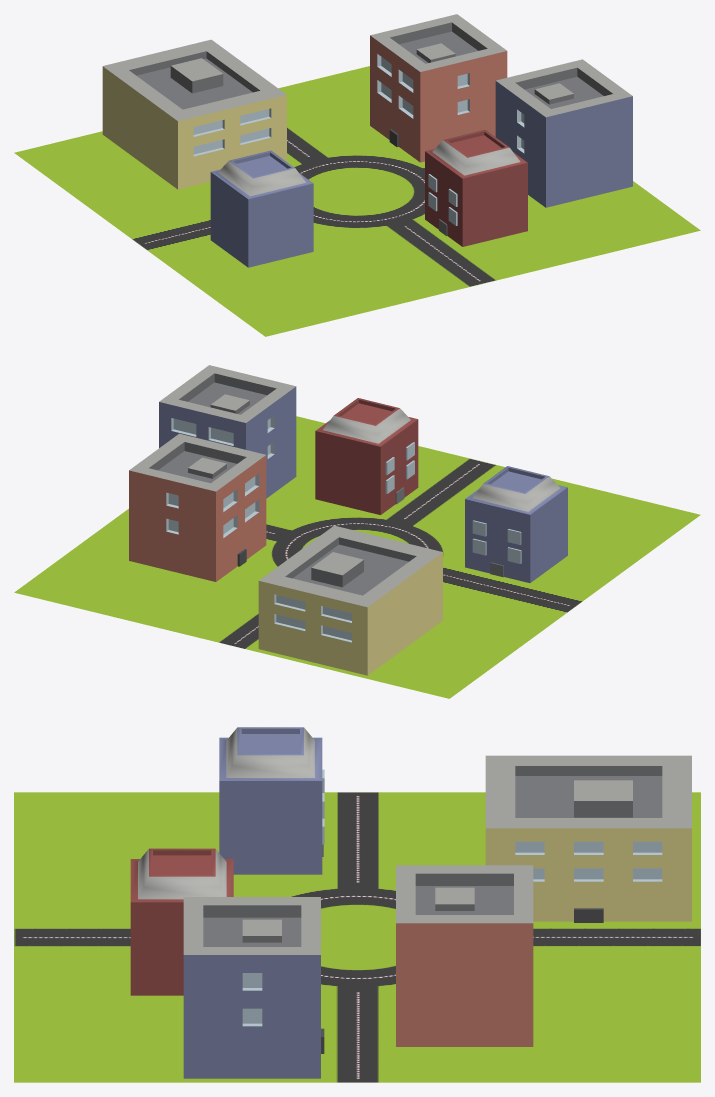
Rendered from Buildings_1.fbx.
The picture shows the model from 3 angles, top to bottom: view 1: azimuth 30°, elevation 25°; view 2: azimuth 150°, elevation 25°; view 3: azimuth 270°, elevation 25°; orthographic projection. The views are drawn at different scales.
Visible parts, largest first — view 1: level_1, Plane; view 2: level_1, Plane; view 3: Plane, level_1.
Part boxes in pixels (bbox=[...]): level_1: bbox=[102, 14, 632, 267]; Plane: bbox=[14, 66, 700, 336]; level_1: bbox=[129, 365, 567, 675]; Plane: bbox=[14, 416, 700, 698]; Plane: bbox=[14, 792, 700, 1082]; level_1: bbox=[130, 727, 691, 1078].
Size of the model in its own units: 20 by 4 by 20.
9 materials, 1 textured.
